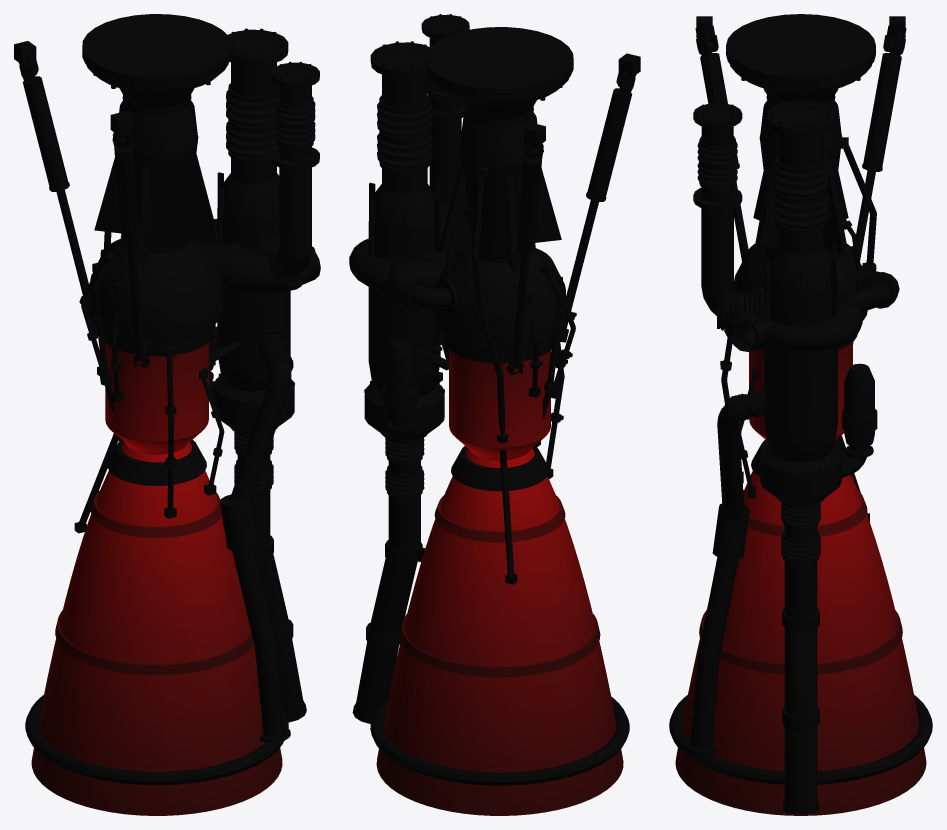
The model's file is eng_kerolox_workhorse.fbx.
3 views of the same model, side by side, from view 1: azimuth 30°, elevation 25°; view 2: azimuth 150°, elevation 25°; view 3: azimuth 270°, elevation 25° (orthographic).
Parts seen in each view (by area): view 1: eng_kerolox_workhorse_LOD0; view 2: eng_kerolox_workhorse_LOD0; view 3: eng_kerolox_workhorse_LOD0.
Part boxes in pixels (<box>): eng_kerolox_workhorse_LOD0: <box>14,14,320,815</box>; eng_kerolox_workhorse_LOD0: <box>349,14,640,815</box>; eng_kerolox_workhorse_LOD0: <box>669,14,932,815</box>.
Size of what is drawn, in the model's own units: 1.11 by 2.9 by 0.9665.
